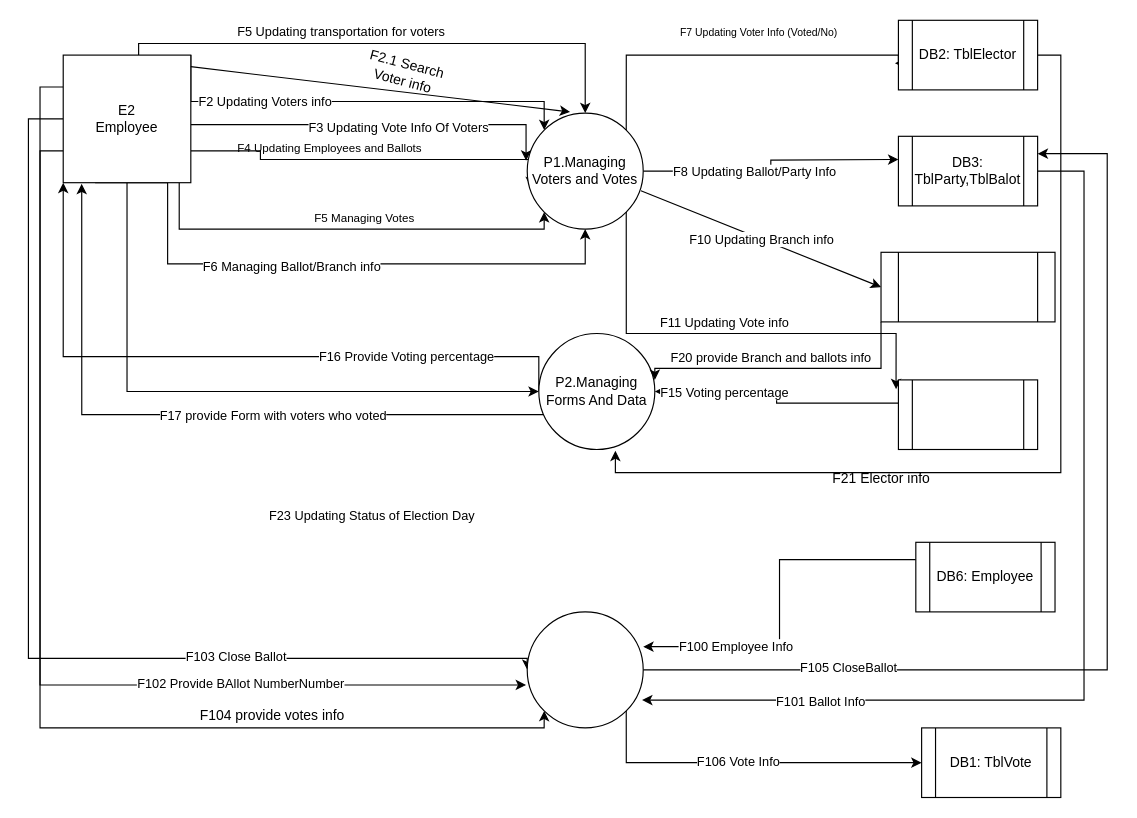
This 1137x818 diagram has some shape labels left out. Here are the shapes that lost their labels. From the top down, the centre of each, then its label:
the point at 967,286: DB4: TblBranch,TblMainBranch TblSecondaryBanch ,TblBallot
the point at 967,414: DB5: TblCity
the point at 584,669: P3. Manage Vote Count
